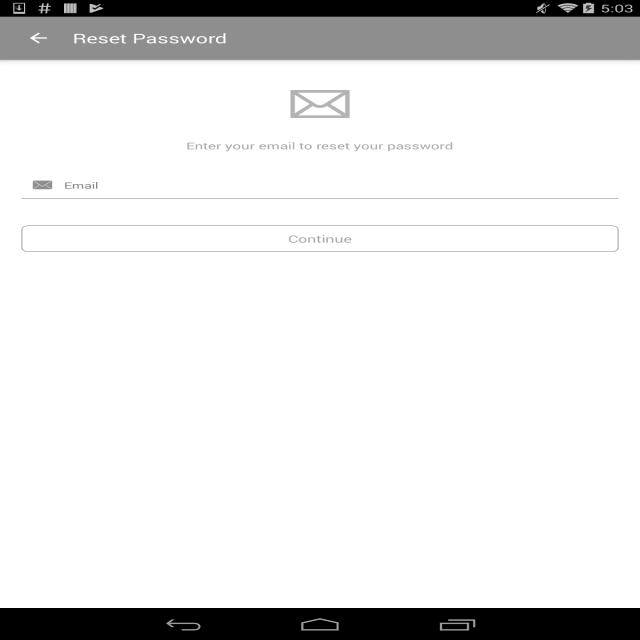Button: (21, 225, 619, 252)
EditText: (64, 172, 619, 199)
ImageButton: (9, 19, 68, 57)
ImageView: (285, 89, 355, 119), (32, 179, 53, 192)
TextView: (186, 139, 453, 152), (72, 29, 228, 47)
